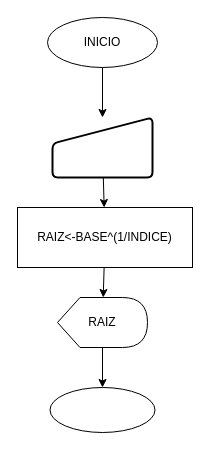
Some shapes in this 210 by 450 pixel diagram are drawn without their labels. The shapes that lost their labels are listed below. From the top down, each one's box as (x1, y1, x2, y2) in pixels, then its label:
(51, 116, 153, 178): BASE, INDICE
(49, 386, 155, 432): FIM
